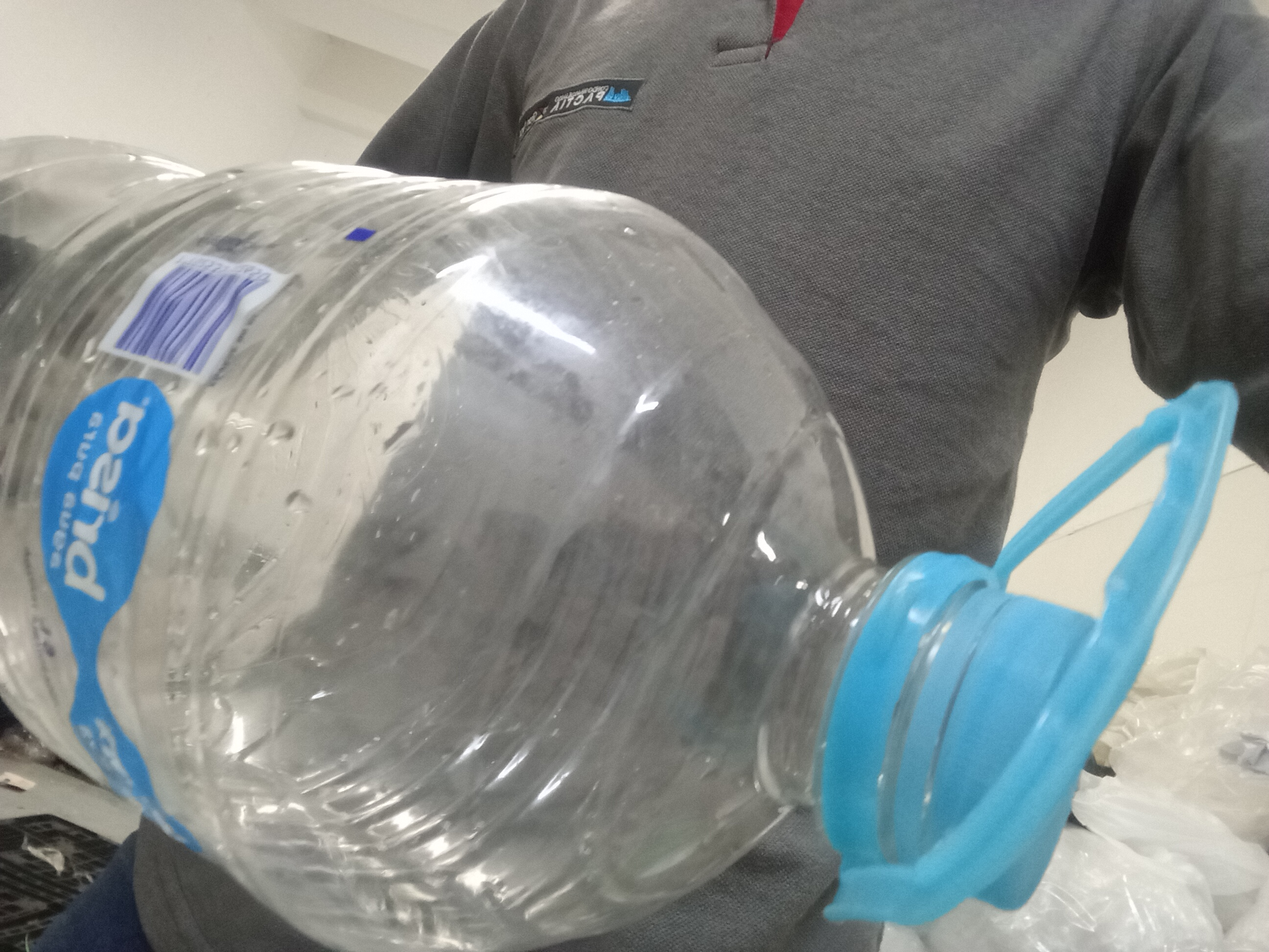Plastico: (0, 138, 1099, 952)
